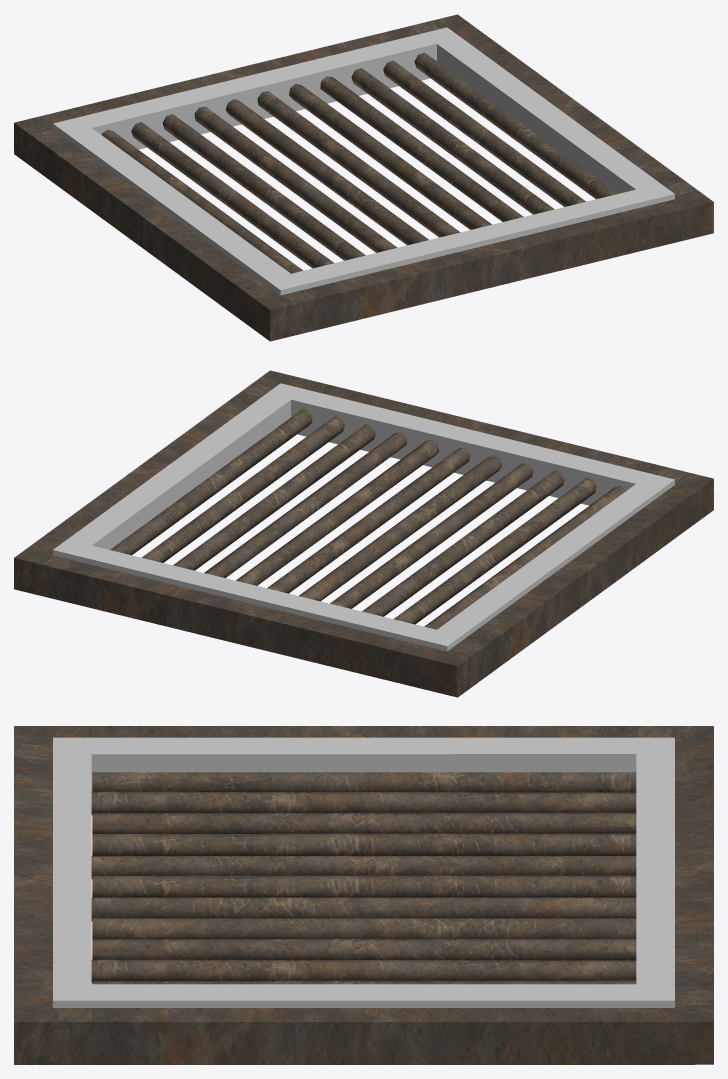
3 renders of one model, top to bottom at view 1: azimuth 30°, elevation 25°; view 2: azimuth 150°, elevation 25°; view 3: azimuth 270°, elevation 25°, orthographic. The views are drawn at different scales.
Parts seen in each view (by area): view 1: SM_BB_T3_Extended_Floor_Grate_Large_LOD0; view 2: SM_BB_T3_Extended_Floor_Grate_Large_LOD0; view 3: SM_BB_T3_Extended_Floor_Grate_Large_LOD0.
Boxes of the visible parts, bbox=[...] form: SM_BB_T3_Extended_Floor_Grate_Large_LOD0: bbox=[14, 14, 713, 341]; SM_BB_T3_Extended_Floor_Grate_Large_LOD0: bbox=[14, 370, 713, 697]; SM_BB_T3_Extended_Floor_Grate_Large_LOD0: bbox=[14, 726, 713, 1064].
Size of the model in its own units: 3.38 by 0.2539 by 3.38.
